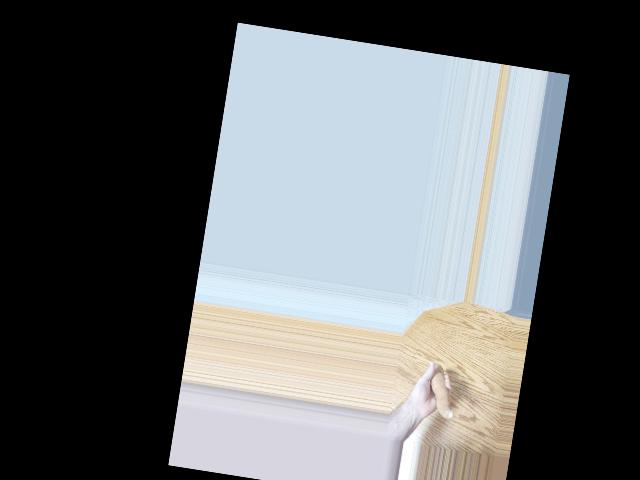sweet_potato: (422, 363, 459, 421)
